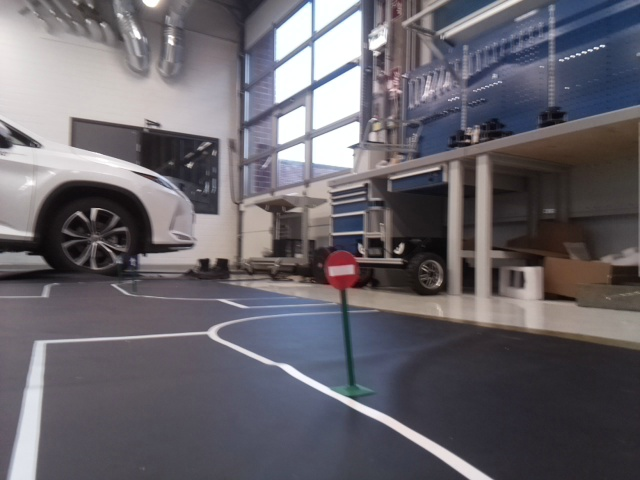NoEntry: (323, 250, 358, 291)
